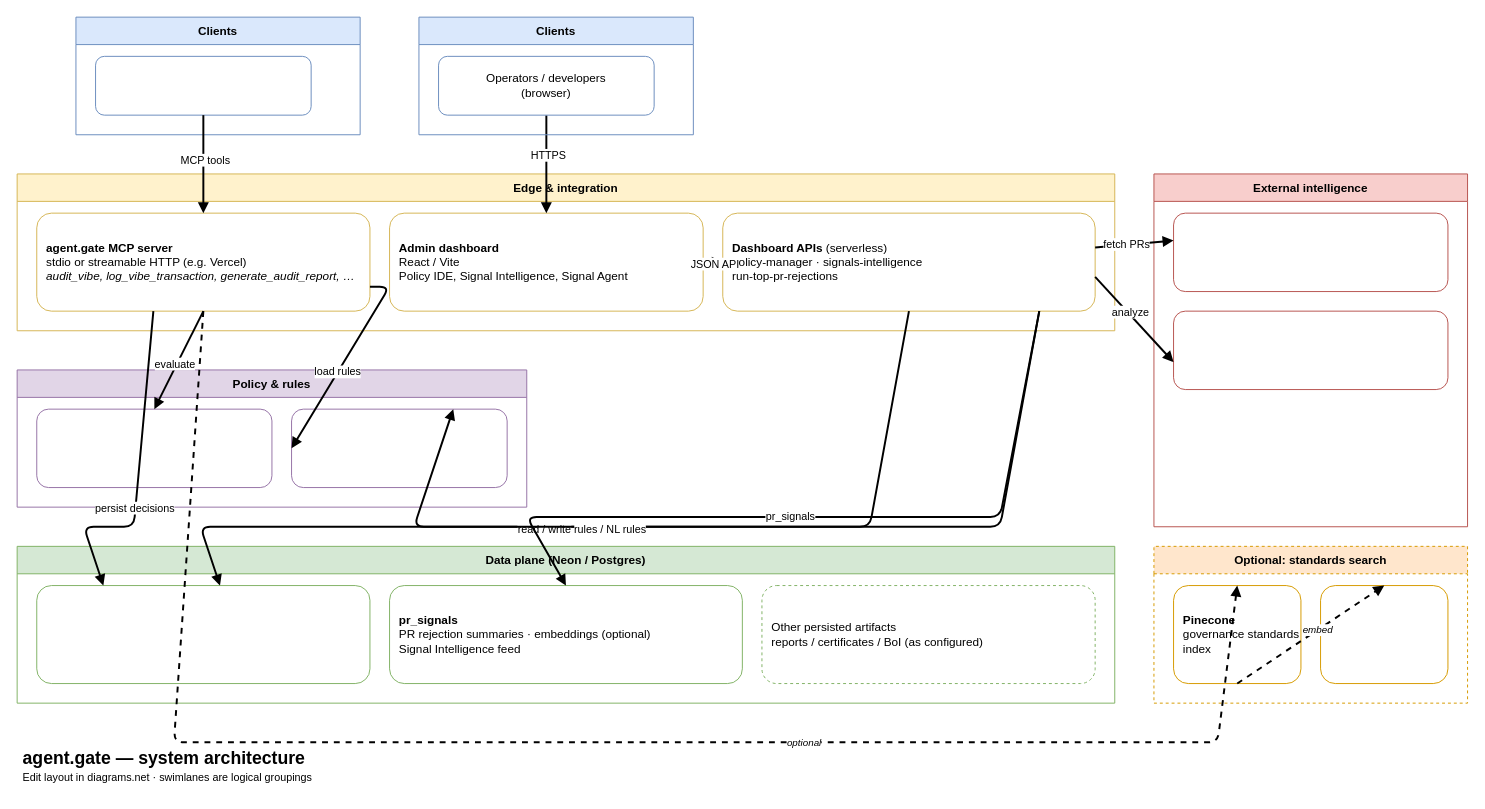
Image size: 1485x809. Some labels were removed from this diagram. Each missing label, with the centre of its shape:
"ambit_decision_logs decisions · violations · hash chain / signatures" goes at (203,634).
"Coding agents / MCP hosts (Leona)" goes at (203,85).
"GitHub REST / GraphQL PRs, diffs, reviews" goes at (1310,252).
"Hugging Face Inference API · embeddings" goes at (1384,634).
"Open Policy Agent (OPA) Rego · decision API data.agent.gate.decision" goes at (154,448).
"OpenAI PR rejection analysis NL → policy JSON" goes at (1310,350).
"rules_library Postgres · tenant / industry / tags MCP cache refresh" goes at (399,448).
